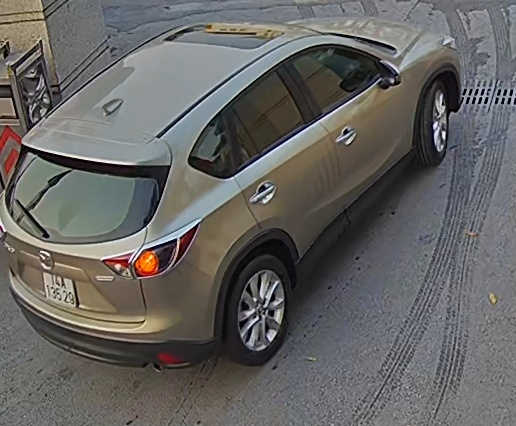vehicle plate: (41, 264, 81, 312)
